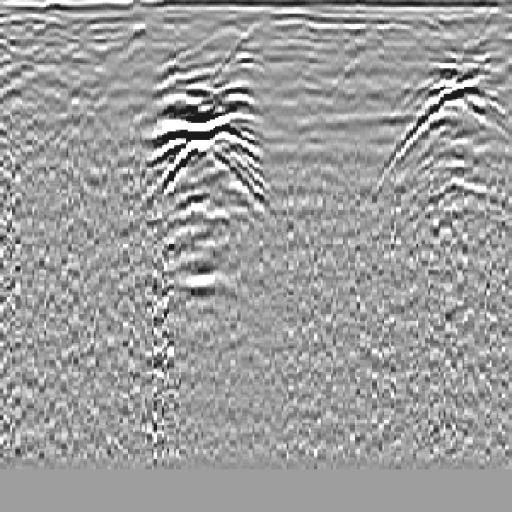metalic: (146, 37, 263, 319)
